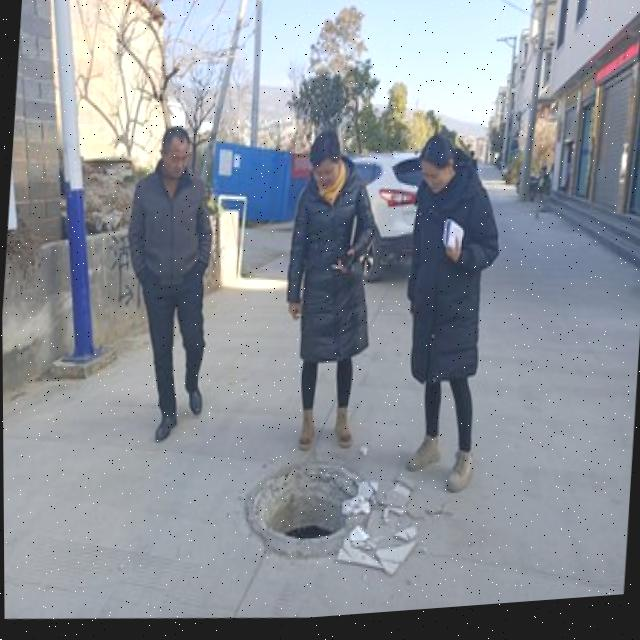manhole: (228, 448, 408, 573)
